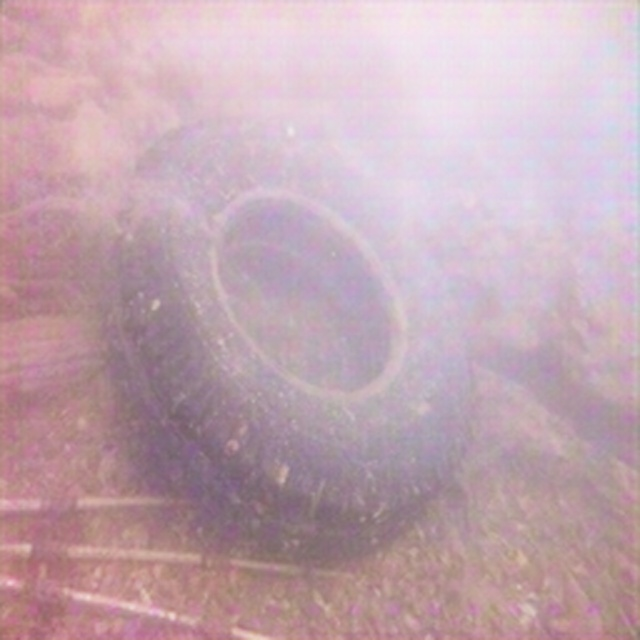mine: (115, 117, 479, 568)
